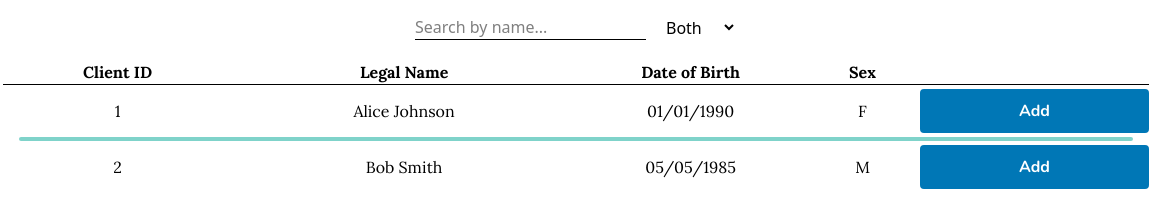
Test: AddClientSearchList › filters by search input
The width and height of the screenshot is (1164, 206).
Step 1. Type "Alice" into the field with placeholder "Search by name..." → (530, 28), box [415,15,646,40]
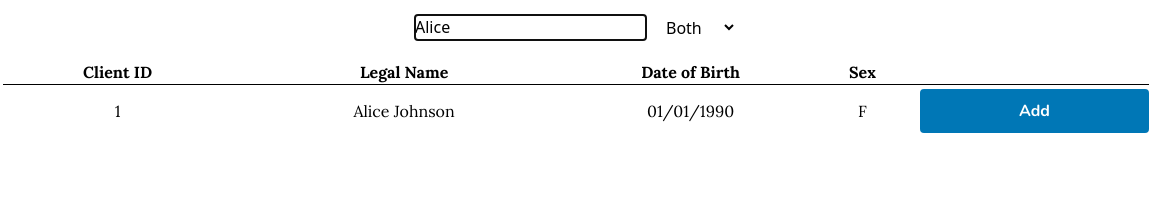
Expected: the text "Alice Johnson" is shown, [354,101,455,121]
Now the text "Bob Smith" is gone
